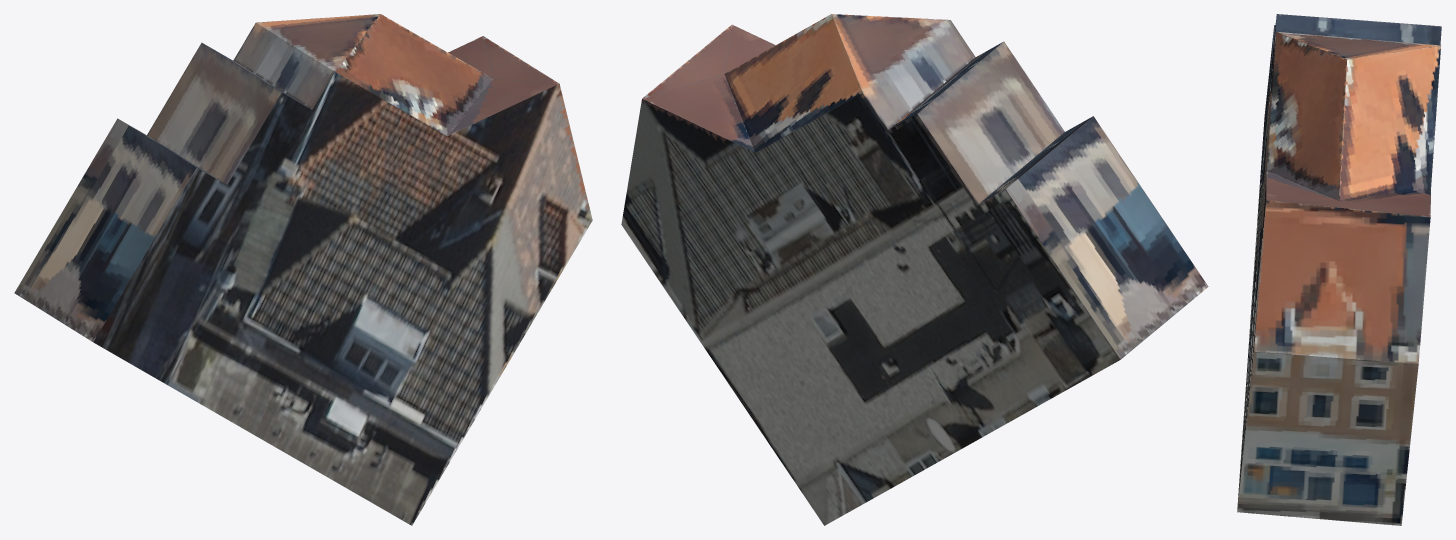
3 views of the same model, side by side, from view 1: azimuth 30°, elevation 25°; view 2: azimuth 150°, elevation 25°; view 3: azimuth 270°, elevation 25° (orthographic). The views are drawn at different scales.
Visible parts, largest first — view 1: BAG_0599100000760369 (×4); view 2: BAG_0599100000760369 (×4); view 3: BAG_0599100000760369 (×3).
Part boxes in pixels (x1,y1,x2,y2): BAG_0599100000760369 (×4): (14, 14, 592, 525); BAG_0599100000760369 (×4): (621, 14, 1208, 525); BAG_0599100000760369 (×3): (1237, 14, 1441, 525).
Bounding box in the file's own units: 18.91 × 17.29 × 6.73.
Materials: 4 (4 with a texture image).
